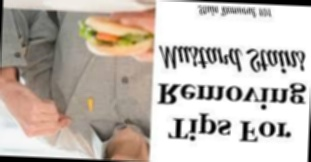mustard: (85, 95, 98, 115)
